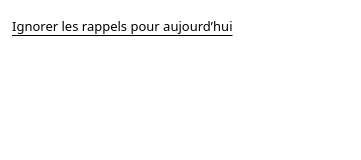
Test: un échec réseau ne montre aucun succès
Click the button "Ignorer les rappels pour aujourd’hui".
click(122, 26)  # box [12,4,232,48]
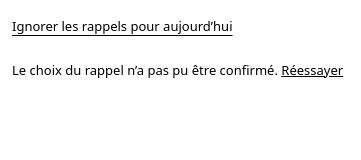
expect the message "Le choix du rappel n’a pas pu être confirmé. Réessayer" is shown: met, box [12,48,343,92]
